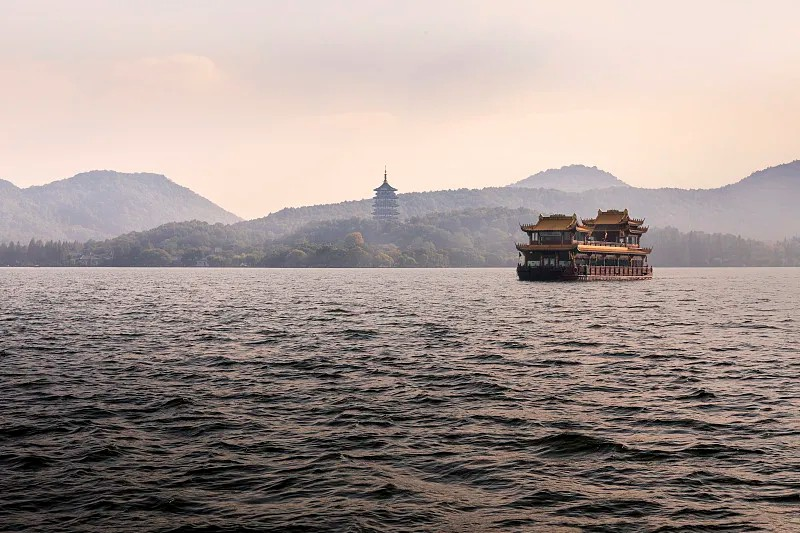Leifeng: (371, 165, 401, 224)
